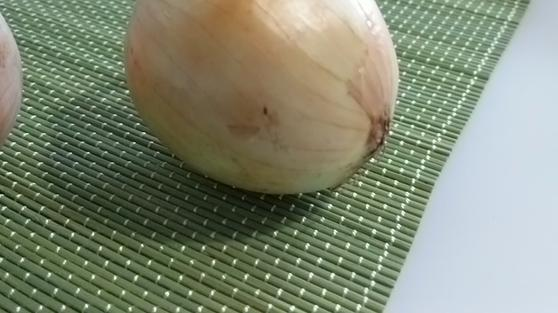onion: (116, 1, 404, 201)
